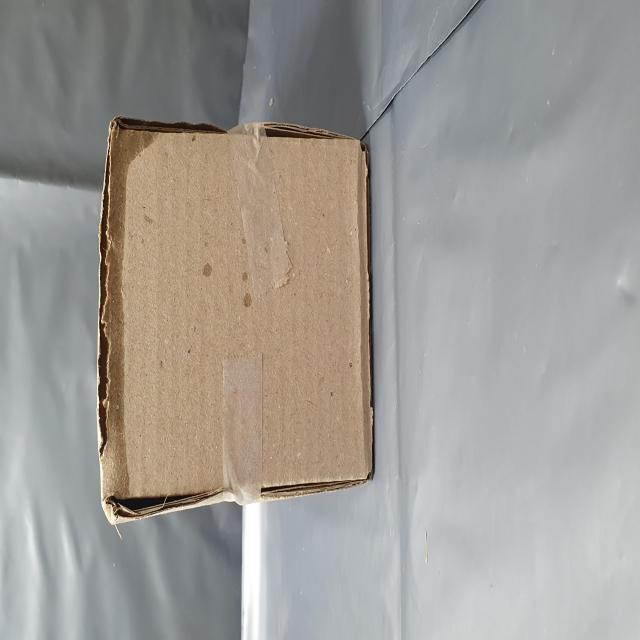wet: (76, 175, 300, 284)
